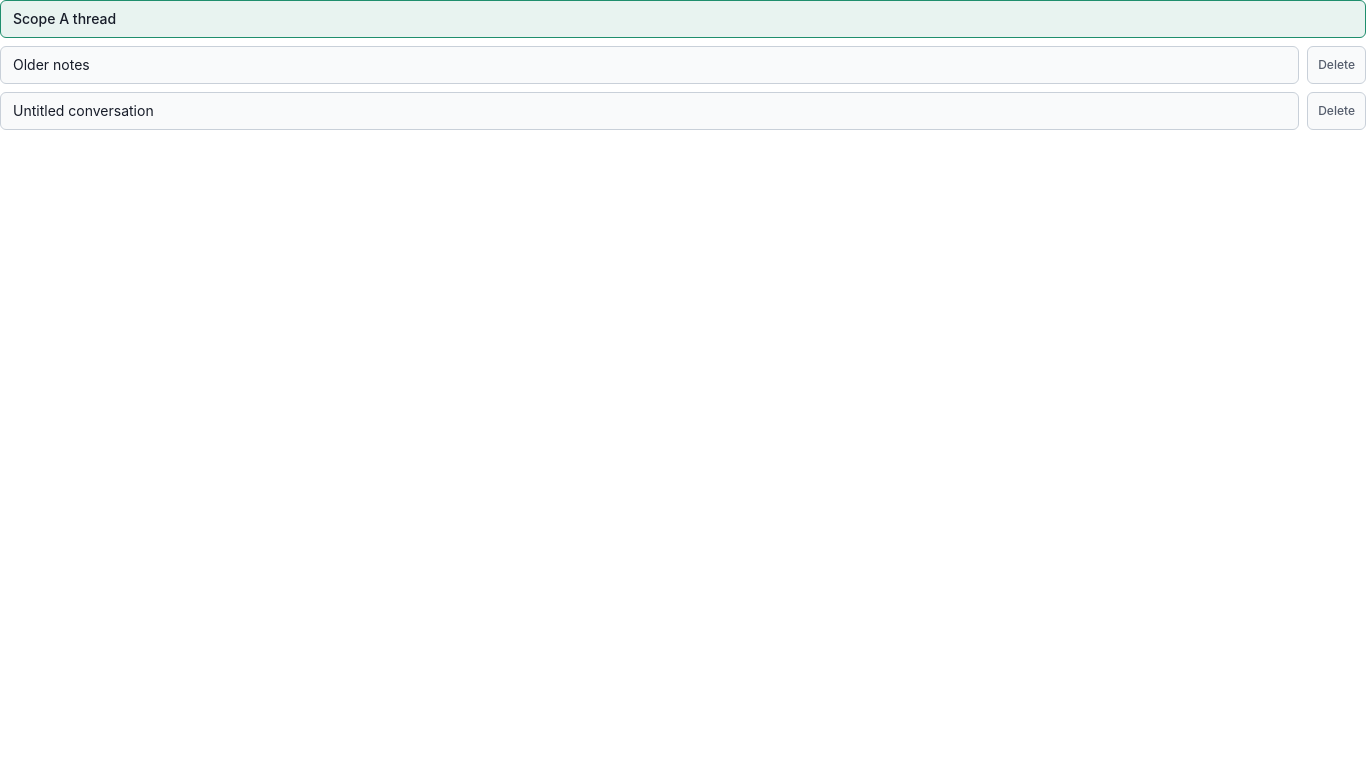
Test: ConversationList › keeps the modal open with a generic error when deletion fails
The image size is (1366, 768).
Step 1. Click the button with aria-label "Delete Older notes" → (1337, 65), box [1307,46,1365,84]
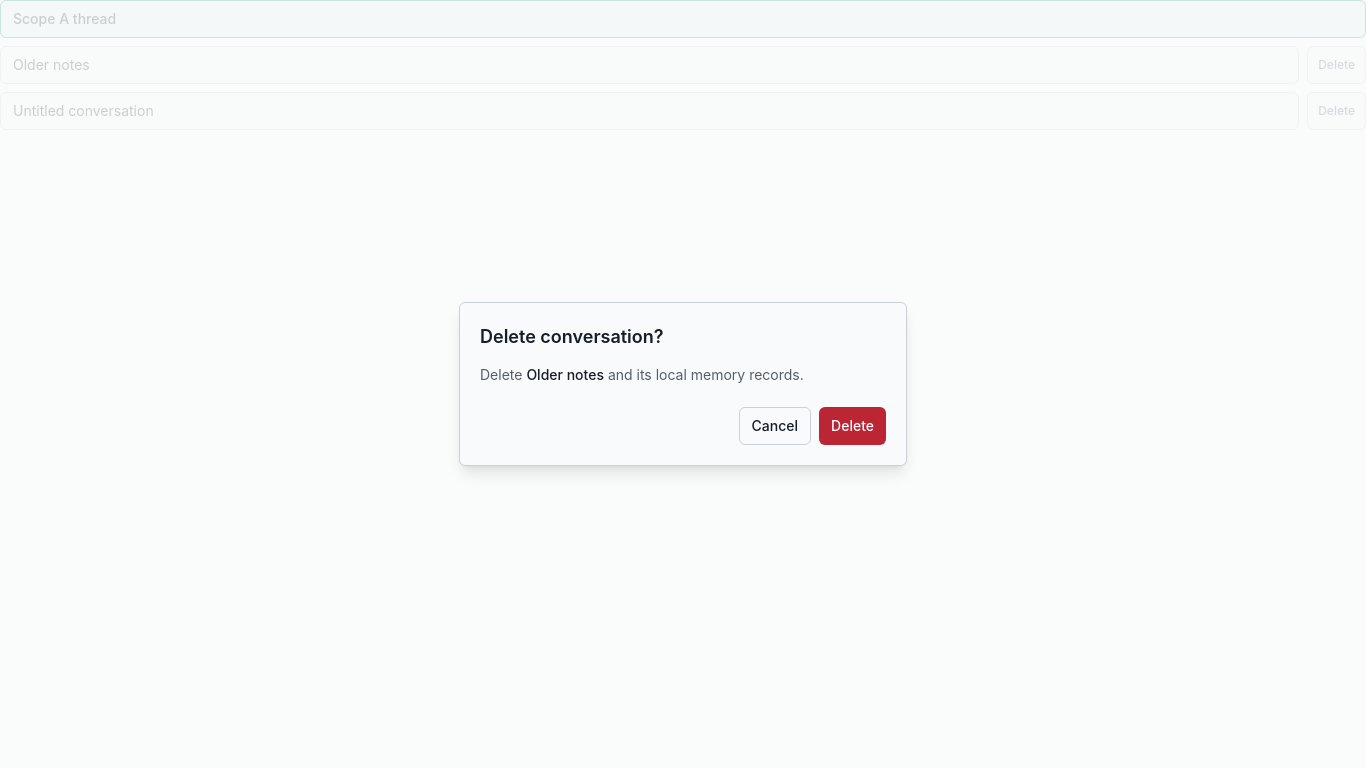
Step 2. Click the button "Delete" → (853, 426), box [819,407,886,445]
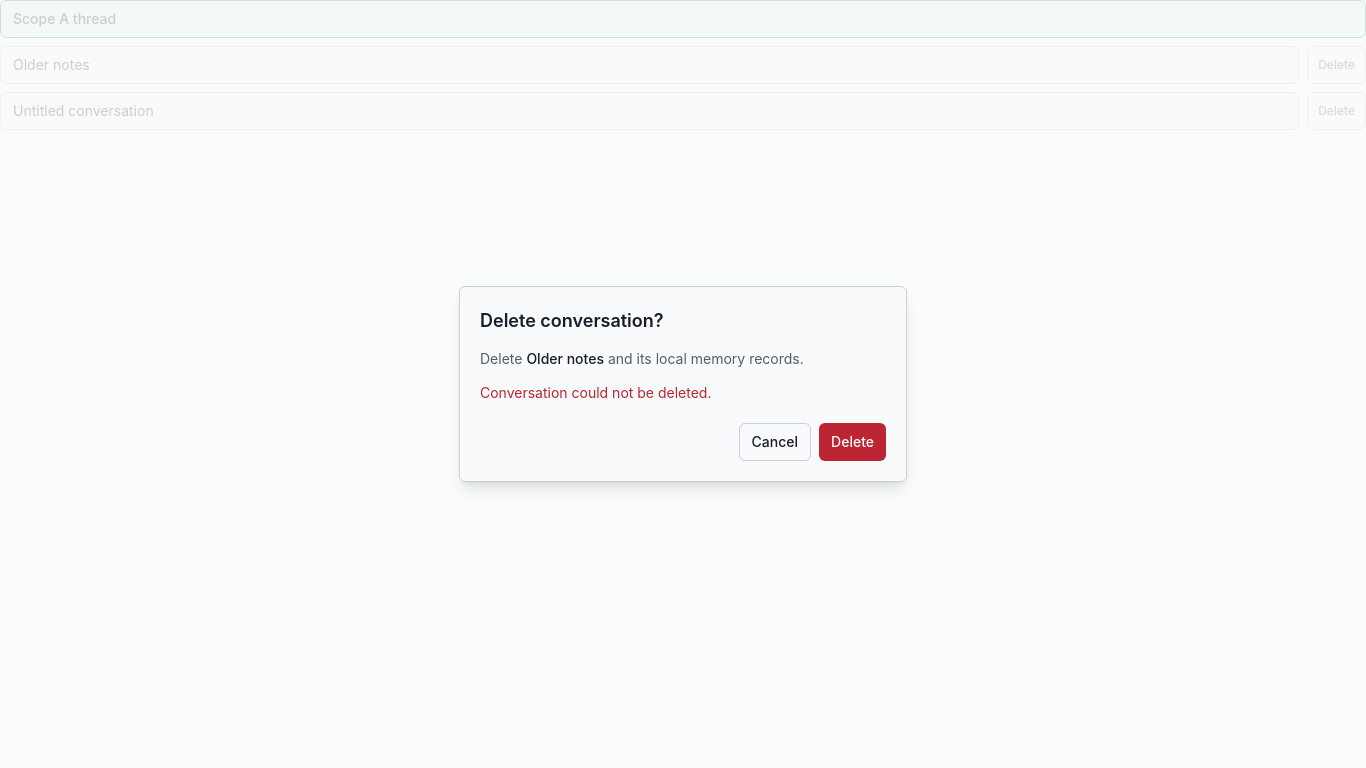
Expected: the button "Older notes" is shown, [0,46,1299,84]
Expected: the dialog "Delete conversation?" is shown, [459,286,907,482]
Expected: the message reads "Conversation could not be deleted.", [480,384,712,401]
